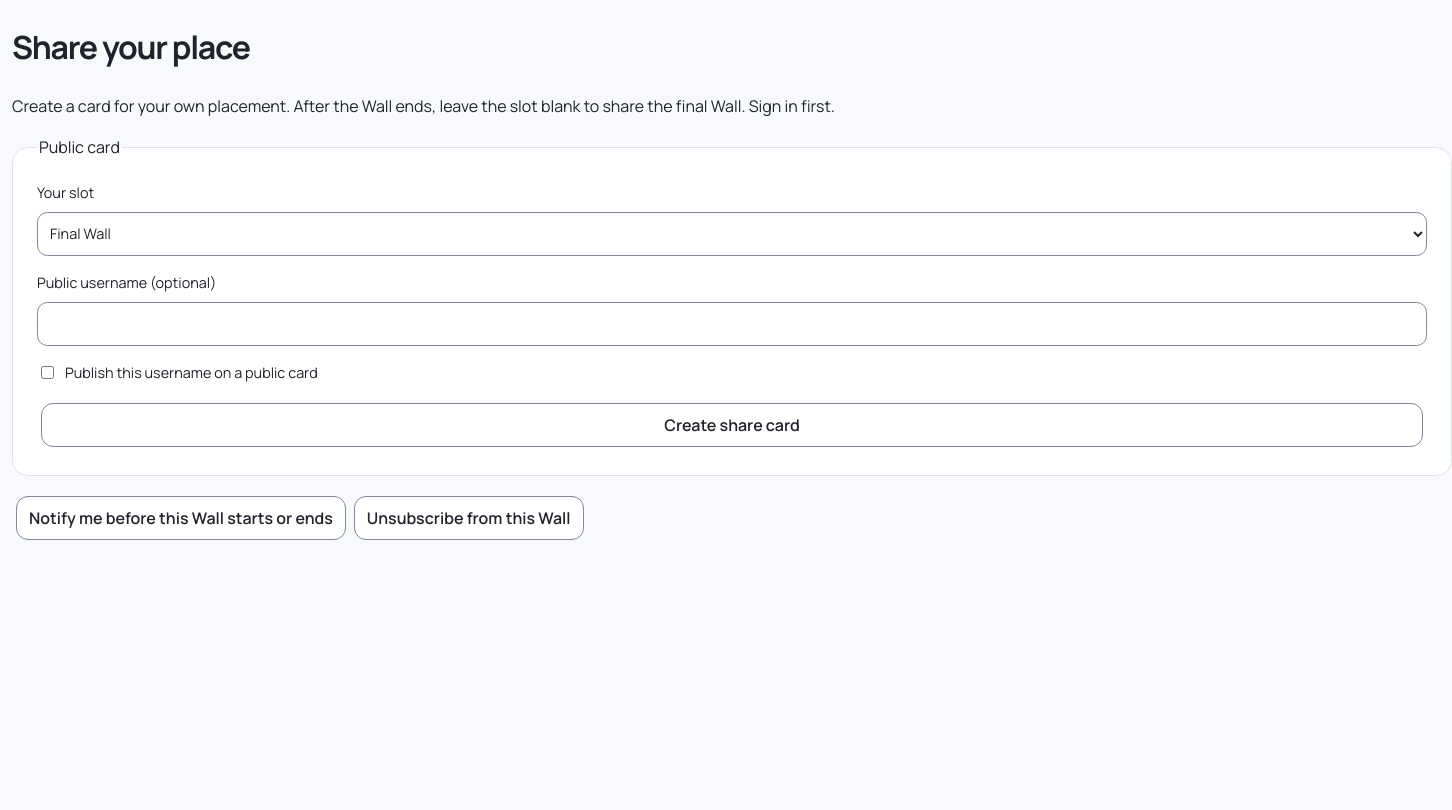
Test: requires separate username publication consent and provides a copy fallback
Select "Slot 1" in the dropdown labelled "Your slot": (732,234) [37, 212, 1427, 256]
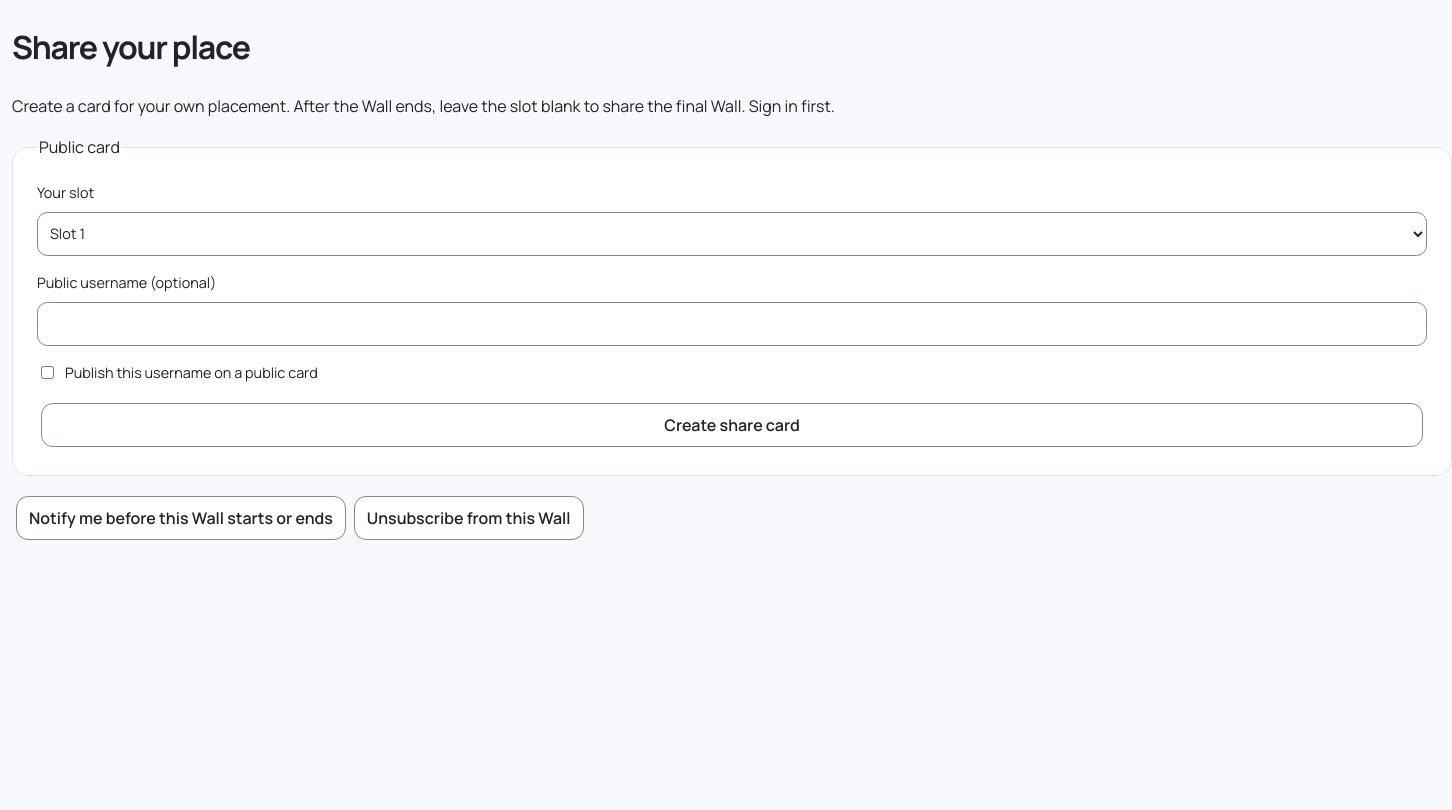
In the field labelled "Public username (optional)": (732,324) [37, 302, 1427, 346], type "Fan"
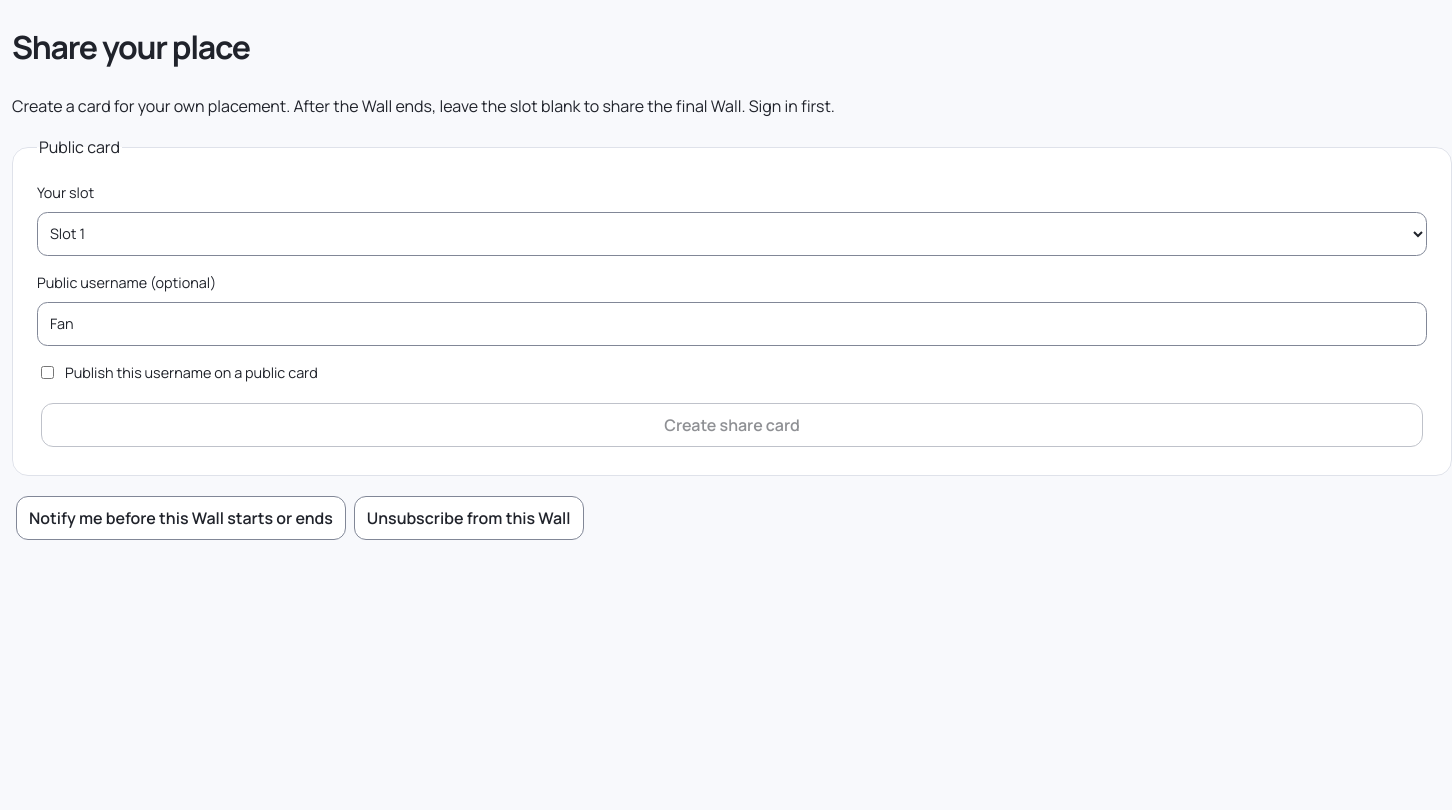
expect the button "Create share card" is disabled: met, box [41, 403, 1423, 447]
Click the checkbox labelled "Publish this username on a public card": (48,372) [41, 366, 54, 379]
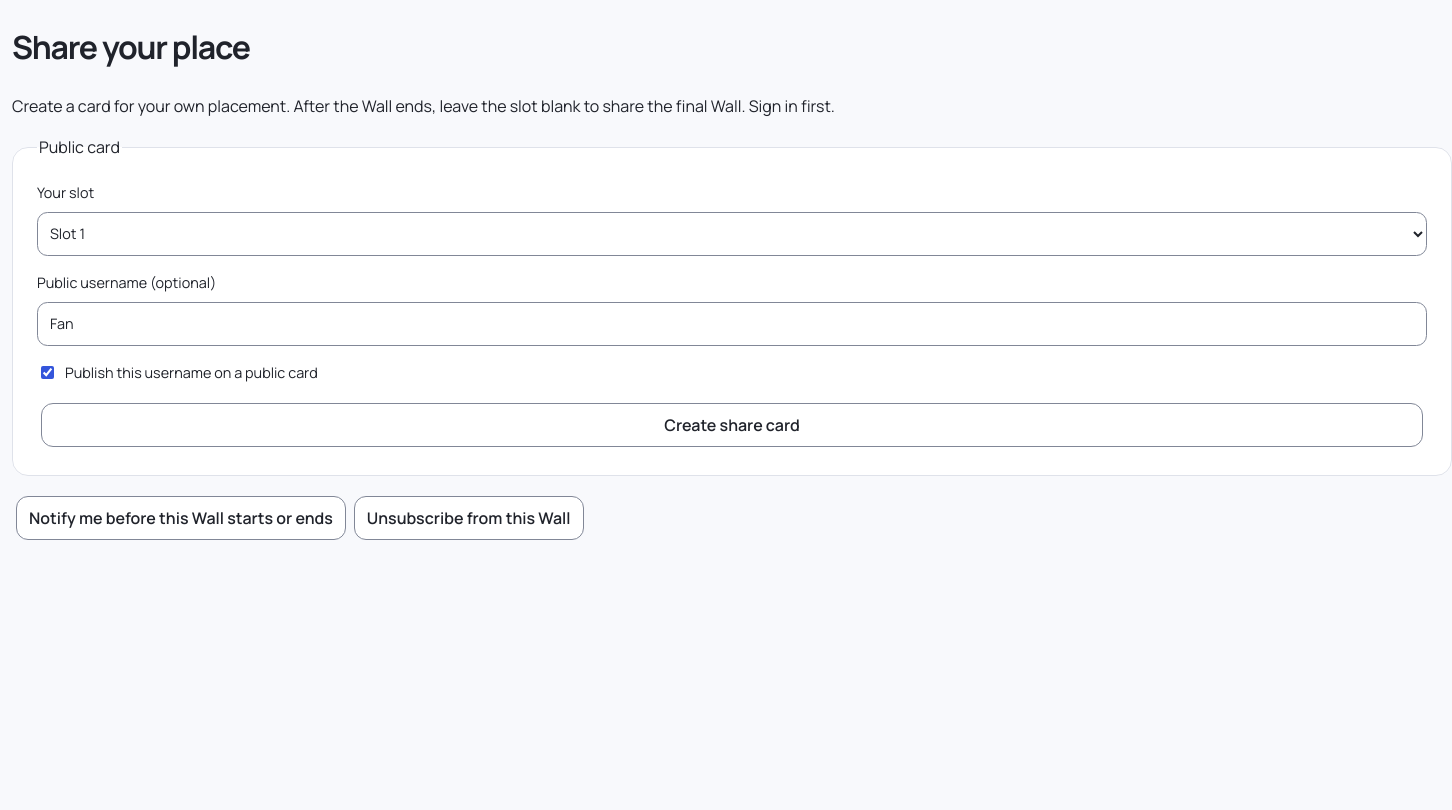
Click the button "Create share card": (732,425) [41, 403, 1423, 447]
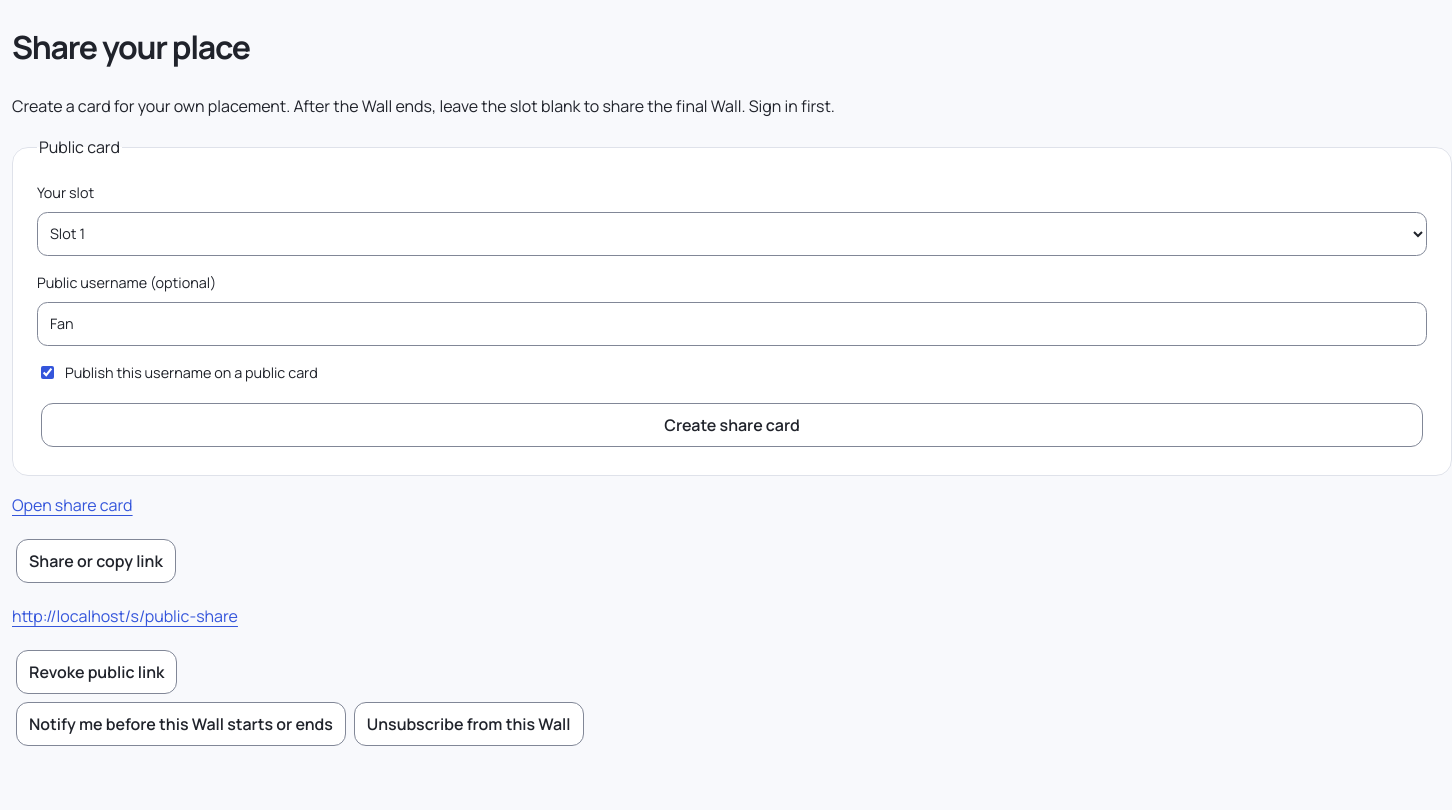
expect the link "Open share card" is shown: met, box [12, 494, 133, 516]
Click the button "Share or copy link": (96,561) [16, 539, 176, 583]
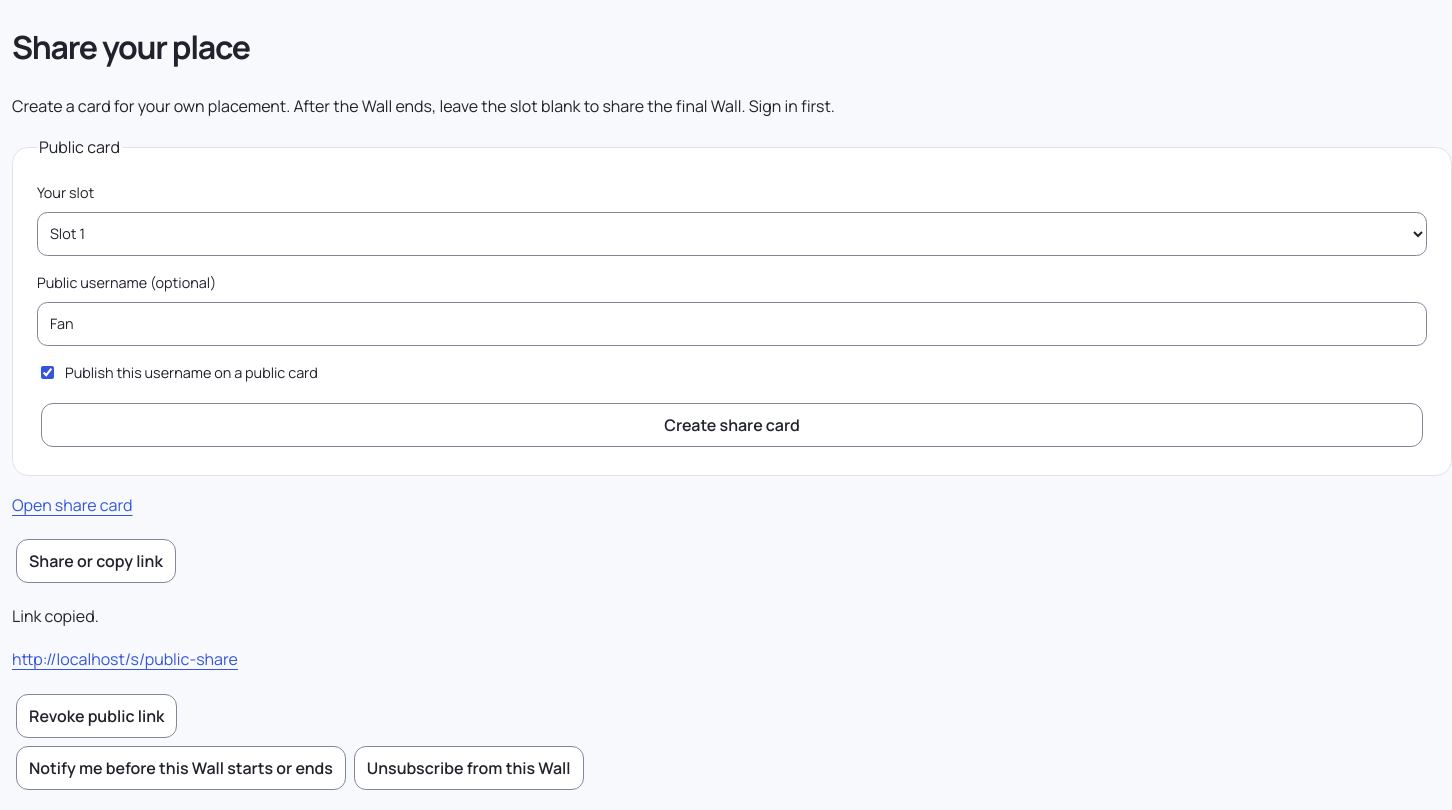
expect the text "Link copied." is shown: met, box [12, 605, 99, 627]
